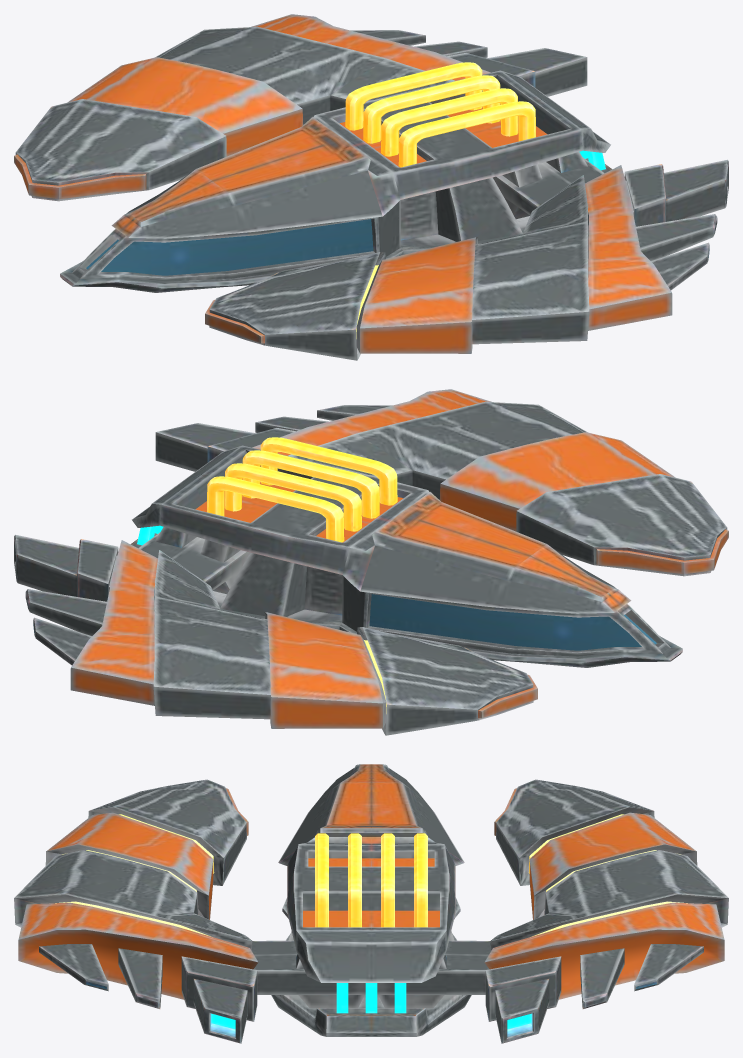
3 renders of one model, top to bottom at view 1: azimuth 30°, elevation 25°; view 2: azimuth 150°, elevation 25°; view 3: azimuth 270°, elevation 25°, orthographic. The views are drawn at different scales.
Visible parts, largest first — view 1: tankship_test2; view 2: tankship_test2; view 3: tankship_test2.
Part boxes in pixels (x1=…): tankship_test2: x1=14, y1=14, x2=728, y2=360; tankship_test2: x1=14, y1=389, x2=728, y2=735; tankship_test2: x1=14, y1=764, x2=728, y2=1043.
Bounding box in the file's own units: 5.29 × 1.12 × 5.96.
1 material, 1 textured.
